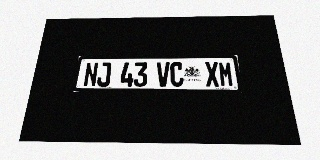3: (134, 62, 147, 87)
4: (120, 62, 134, 87)
C: (170, 62, 184, 87)
J: (96, 62, 112, 87)
M: (218, 62, 234, 87)
N: (83, 62, 99, 87)
V: (156, 62, 170, 87)
X: (204, 62, 220, 87)
